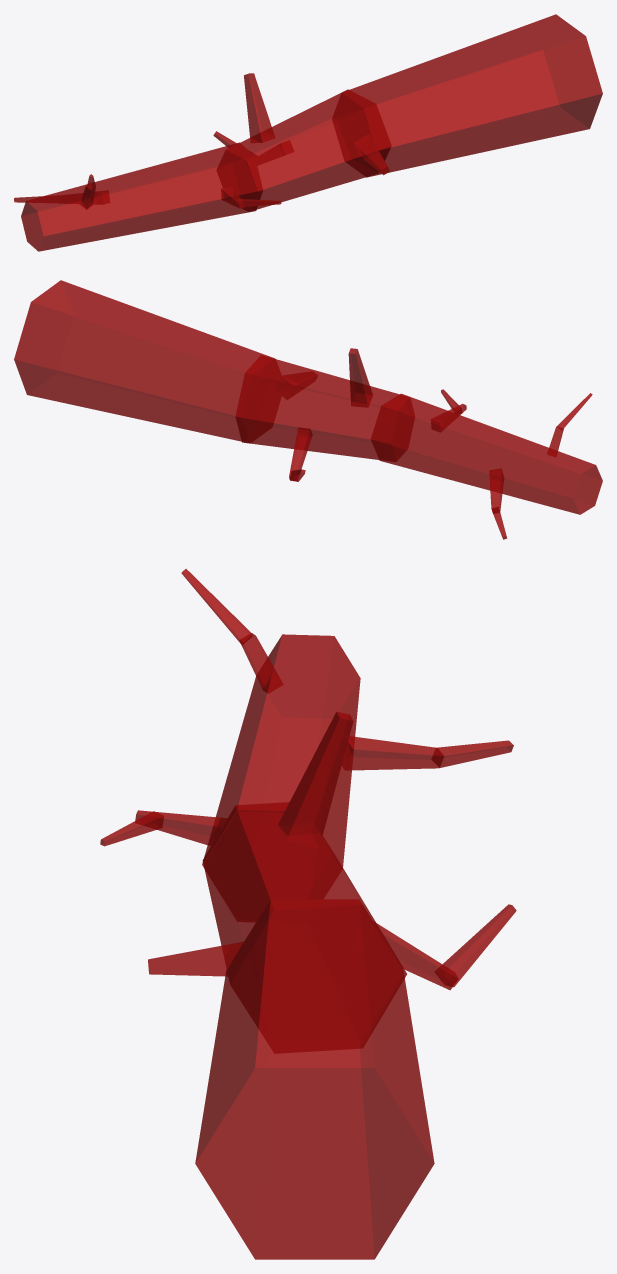
The model's file is SM_Env_Swamp_Log_02_Collision.fbx.
3 views of the same model, one above another, from view 1: azimuth 30°, elevation 25°; view 2: azimuth 150°, elevation 25°; view 3: azimuth 270°, elevation 25° (orthographic). The views are drawn at different scales.
Visible parts, largest first — view 1: SM_Env_Swamp_Log_02_Collision; view 2: SM_Env_Swamp_Log_02_Collision; view 3: SM_Env_Swamp_Log_02_Collision.
Boxes of the visible parts, box(x1,y1,x2,y2) form: SM_Env_Swamp_Log_02_Collision: box(14, 14, 602, 251); SM_Env_Swamp_Log_02_Collision: box(14, 280, 602, 539); SM_Env_Swamp_Log_02_Collision: box(100, 569, 516, 1259).
Size of the model in its own units: 1176 by 249 by 388.
